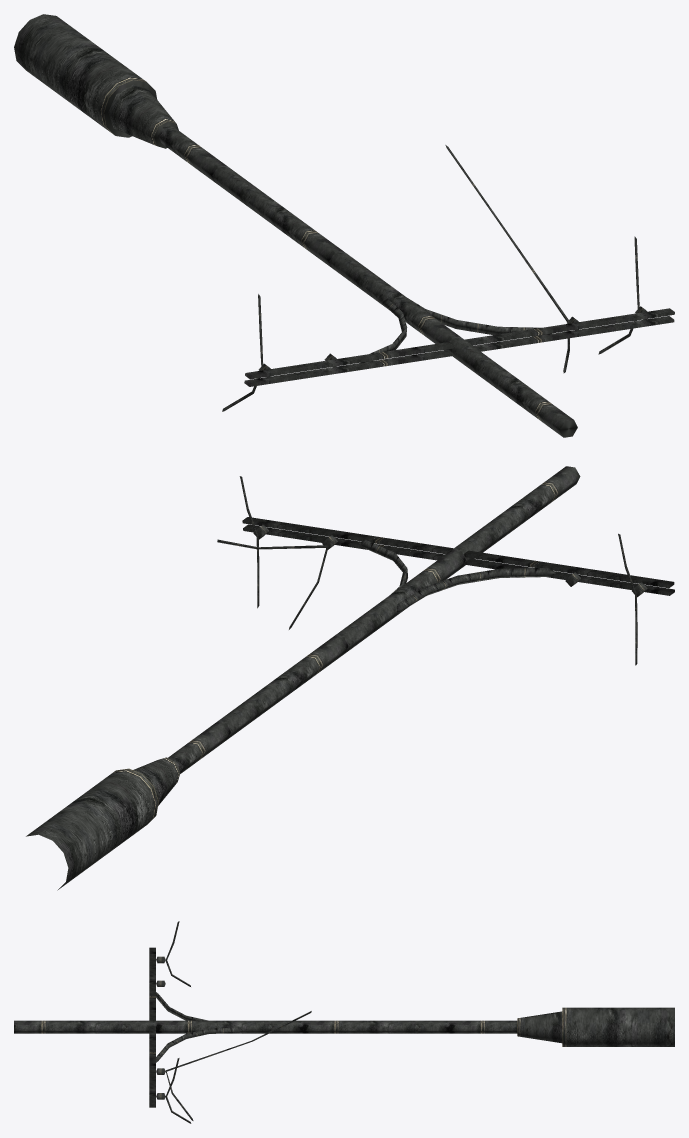
The model's file is prop_trolleypole1.glb.
The picture shows the model from 3 angles, top to bottom: view 1: azimuth 30°, elevation 25°; view 2: azimuth 150°, elevation 25°; view 3: azimuth 270°, elevation 25°; orthographic projection. The views are drawn at different scales.
Bounding box in the file's own units: 99.16 × 36.86 × 213.
Materials: 1 (1 with a texture image).
